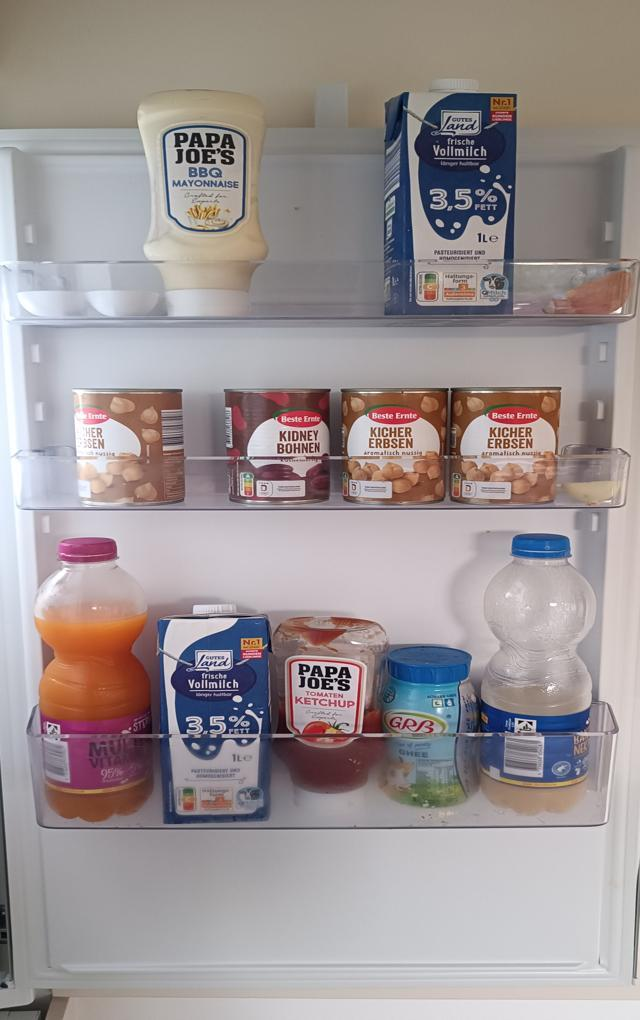bananajuice: (478, 532, 599, 823)
chickpeas: (452, 387, 560, 508), (70, 388, 184, 502), (341, 387, 445, 504)
ghee: (381, 647, 481, 807)
kidneybeans: (224, 389, 331, 498)
mayoniasie: (139, 91, 269, 316)
milk: (384, 79, 519, 317), (159, 604, 271, 823)
orangejuice: (37, 537, 155, 824)
tomatoketchup: (276, 615, 390, 821)
